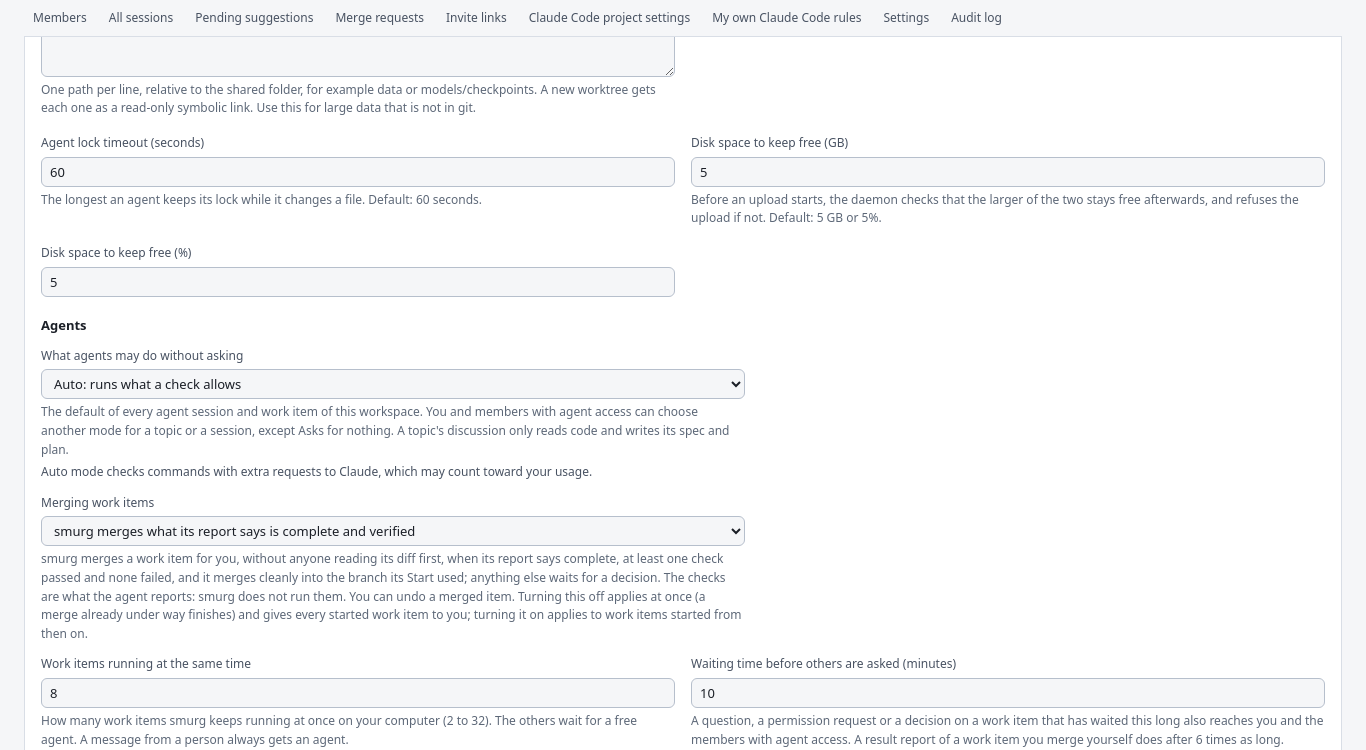
Scenario: host console: what agents may do without asking › "Asks for nothing" opens the warning, and only its own button saves it
(page scrolled)
Select "Asks for nothing" in the dropdown labelled "What agents may do without asking" at (393, 384), box top-left (41, 370), bottom-right (745, 400)
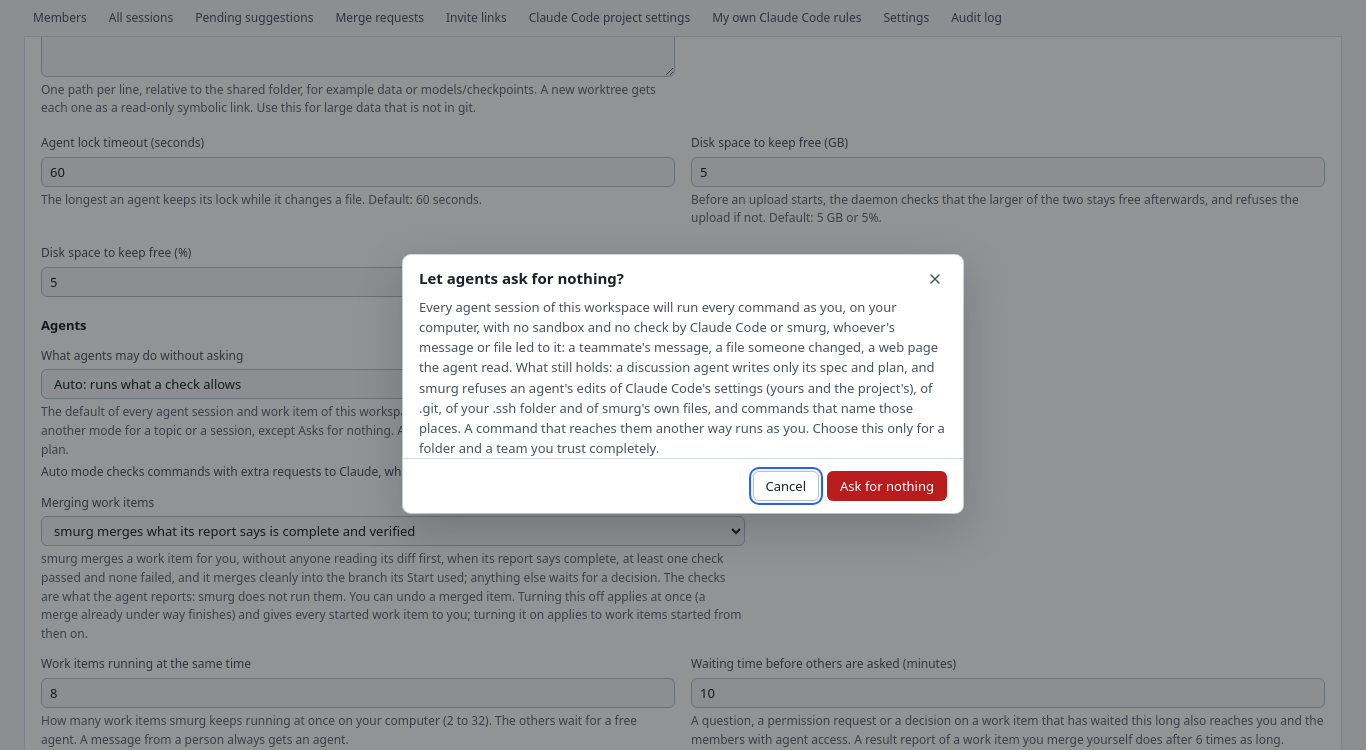
Expected: the text "A command that reaches them another way runs as you. Choose this only for a folder and a team you trust completely." is shown, top-left (419, 298), bottom-right (945, 457)
Click the button "Cancel" at (786, 486), box top-left (753, 471), bottom-right (819, 501)
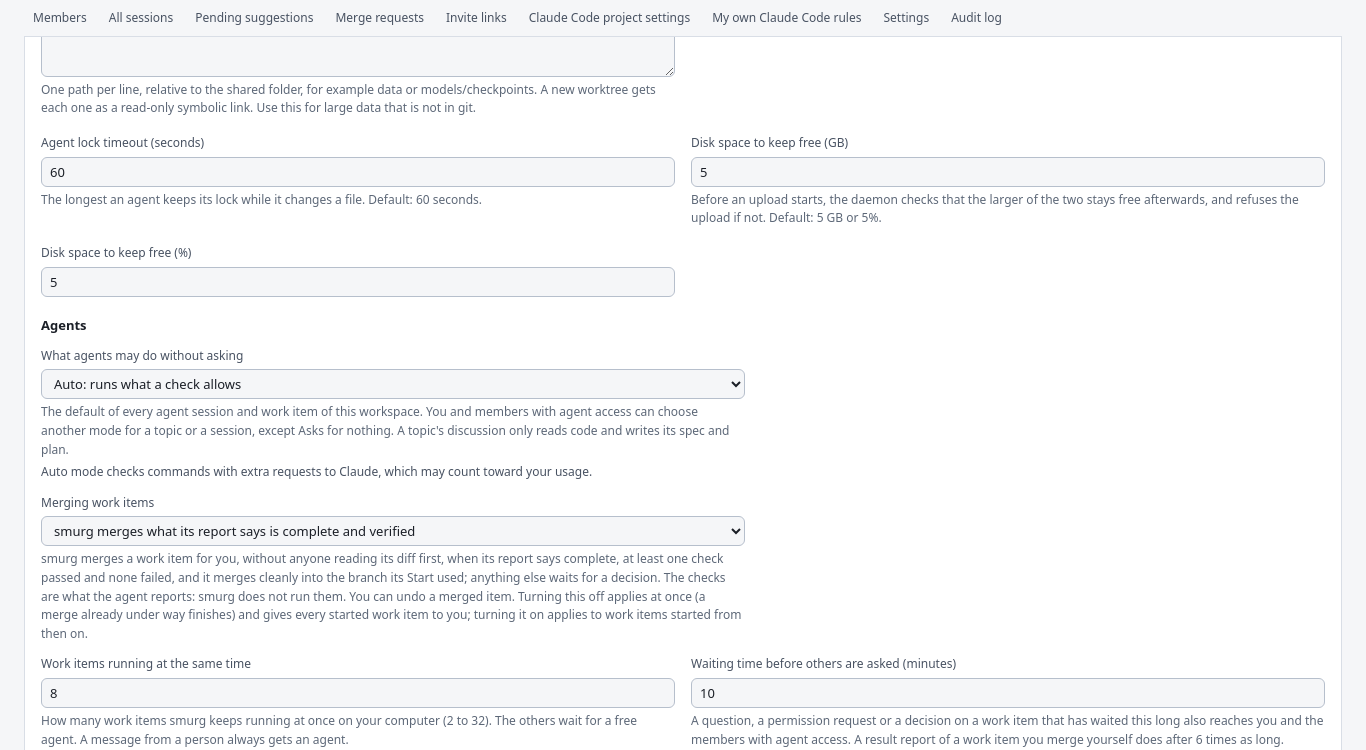
Expected: the dialog is gone
Select "Asks for nothing" in the dropdown labelled "What agents may do without asking" at (393, 384), box top-left (41, 370), bottom-right (745, 400)
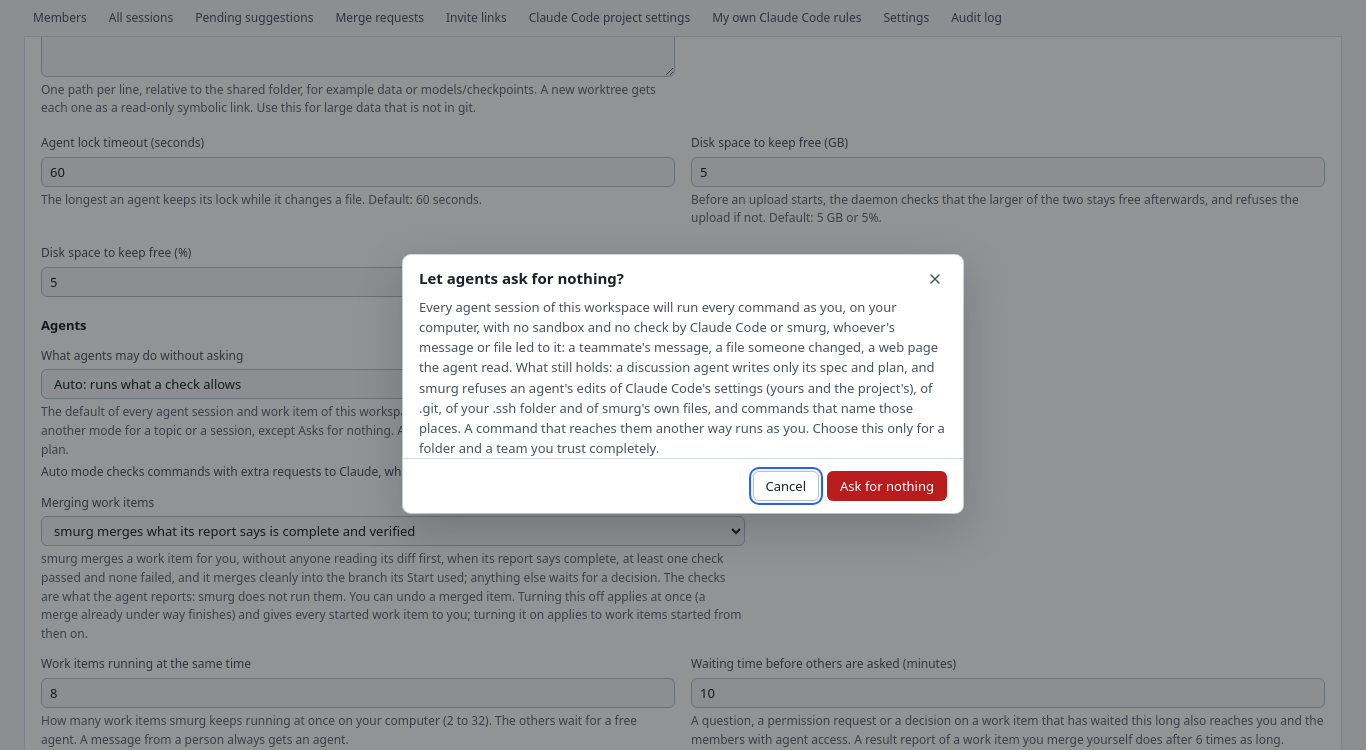
Click the button "Ask for nothing" at (887, 486), box top-left (827, 471), bottom-right (947, 501)
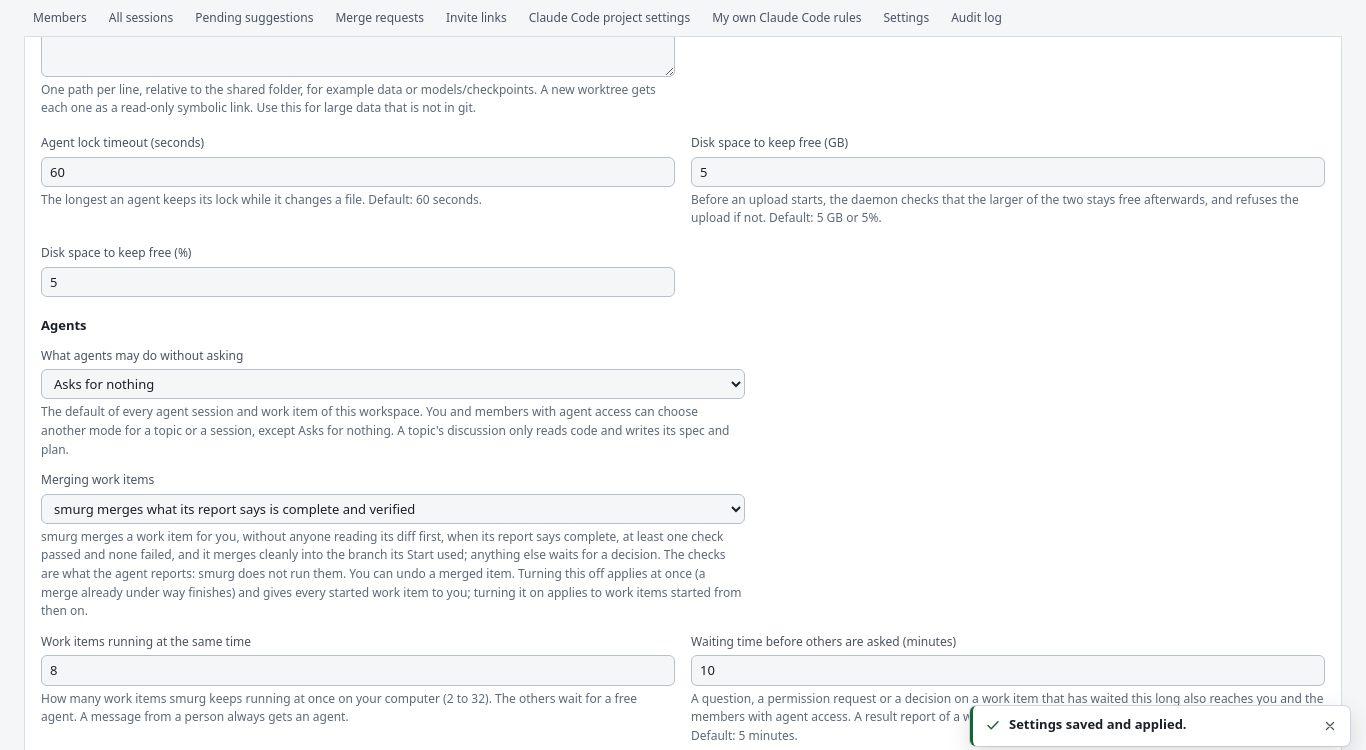
Expected: the dialog is gone
